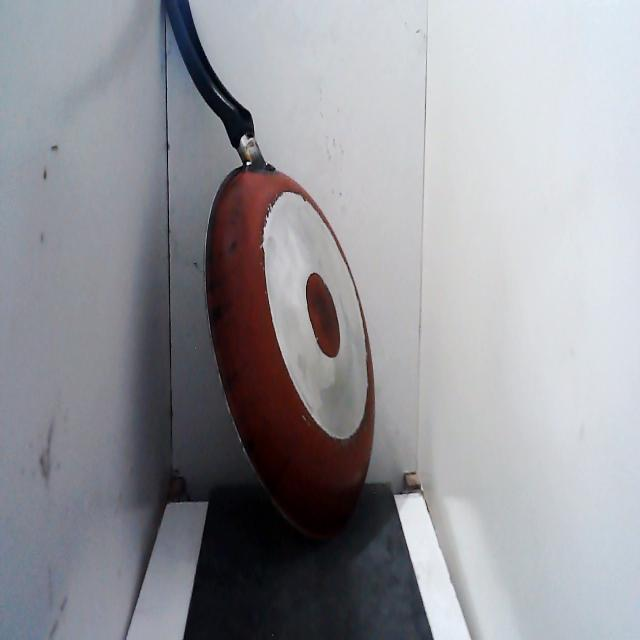metal: (156, 0, 380, 553)
